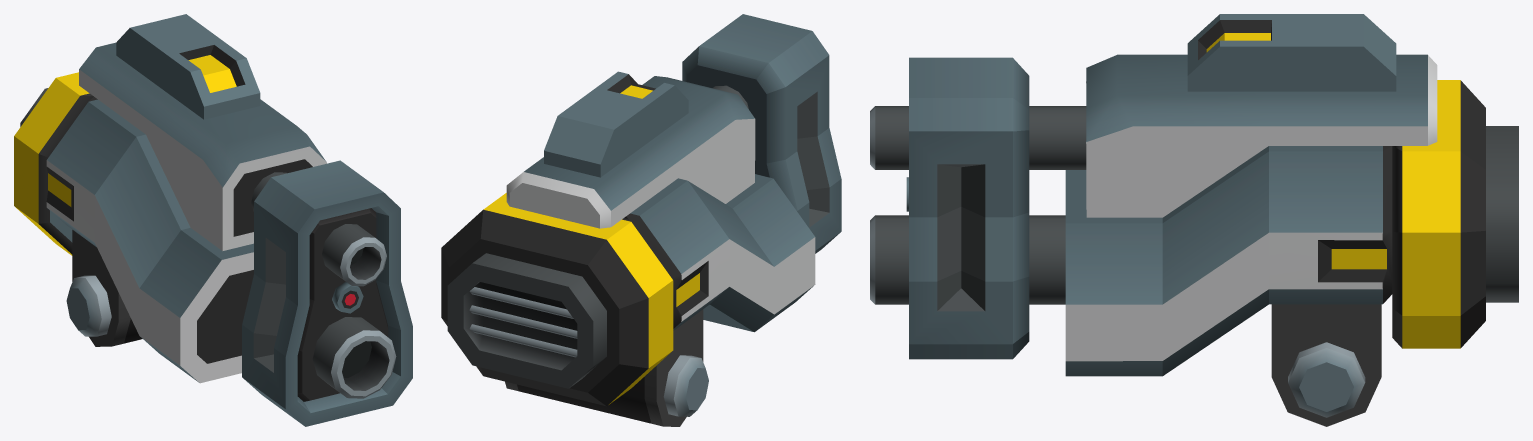
File: Turret_009_Gun_01.fbx
3 views of the same model, side by side, from view 1: azimuth 30°, elevation 25°; view 2: azimuth 150°, elevation 25°; view 3: azimuth 270°, elevation 25° (orthographic). The views are drawn at different scales.
Visible parts, largest first — view 1: Turret_009_Gun_01; view 2: Turret_009_Gun_01; view 3: Turret_009_Gun_01.
Boxes of the visible parts, x1,y1,x2,y2 form: Turret_009_Gun_01: (14, 14, 412, 426); Turret_009_Gun_01: (441, 14, 841, 426); Turret_009_Gun_01: (870, 14, 1518, 426).
Size of the model in its own units: 60.98 by 139 by 83.17.
